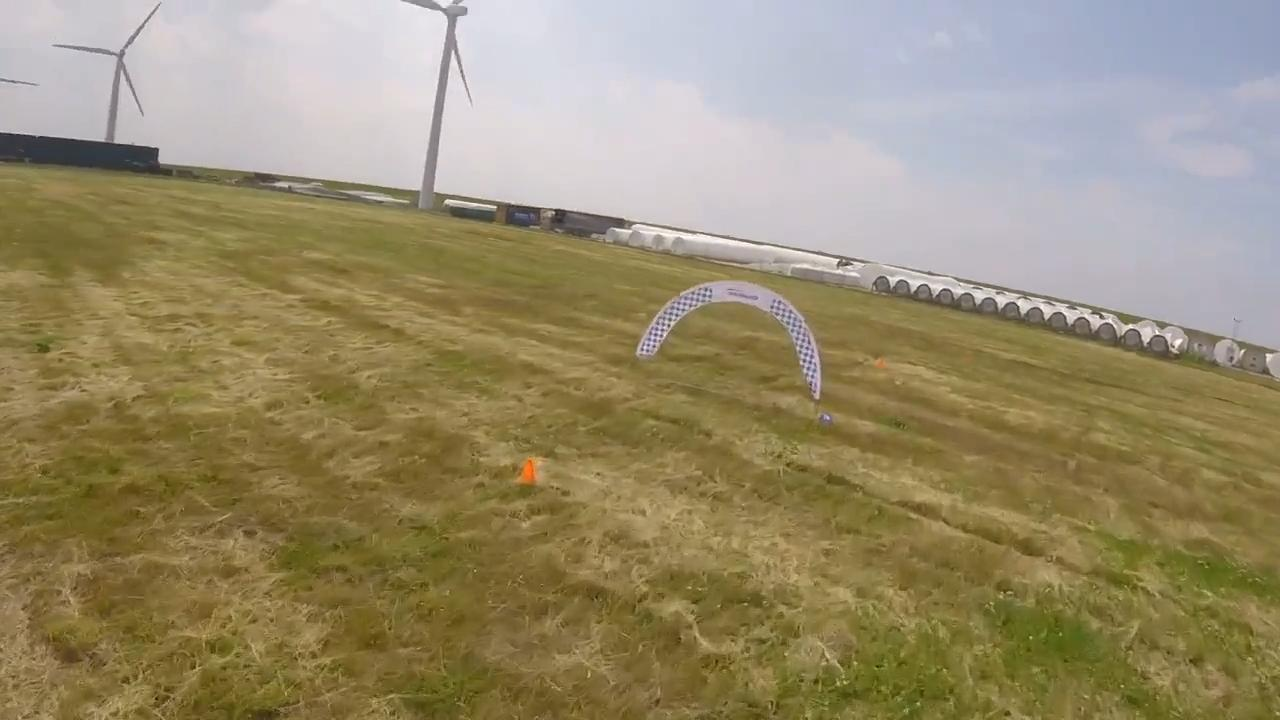gate: (638, 279, 821, 396)
